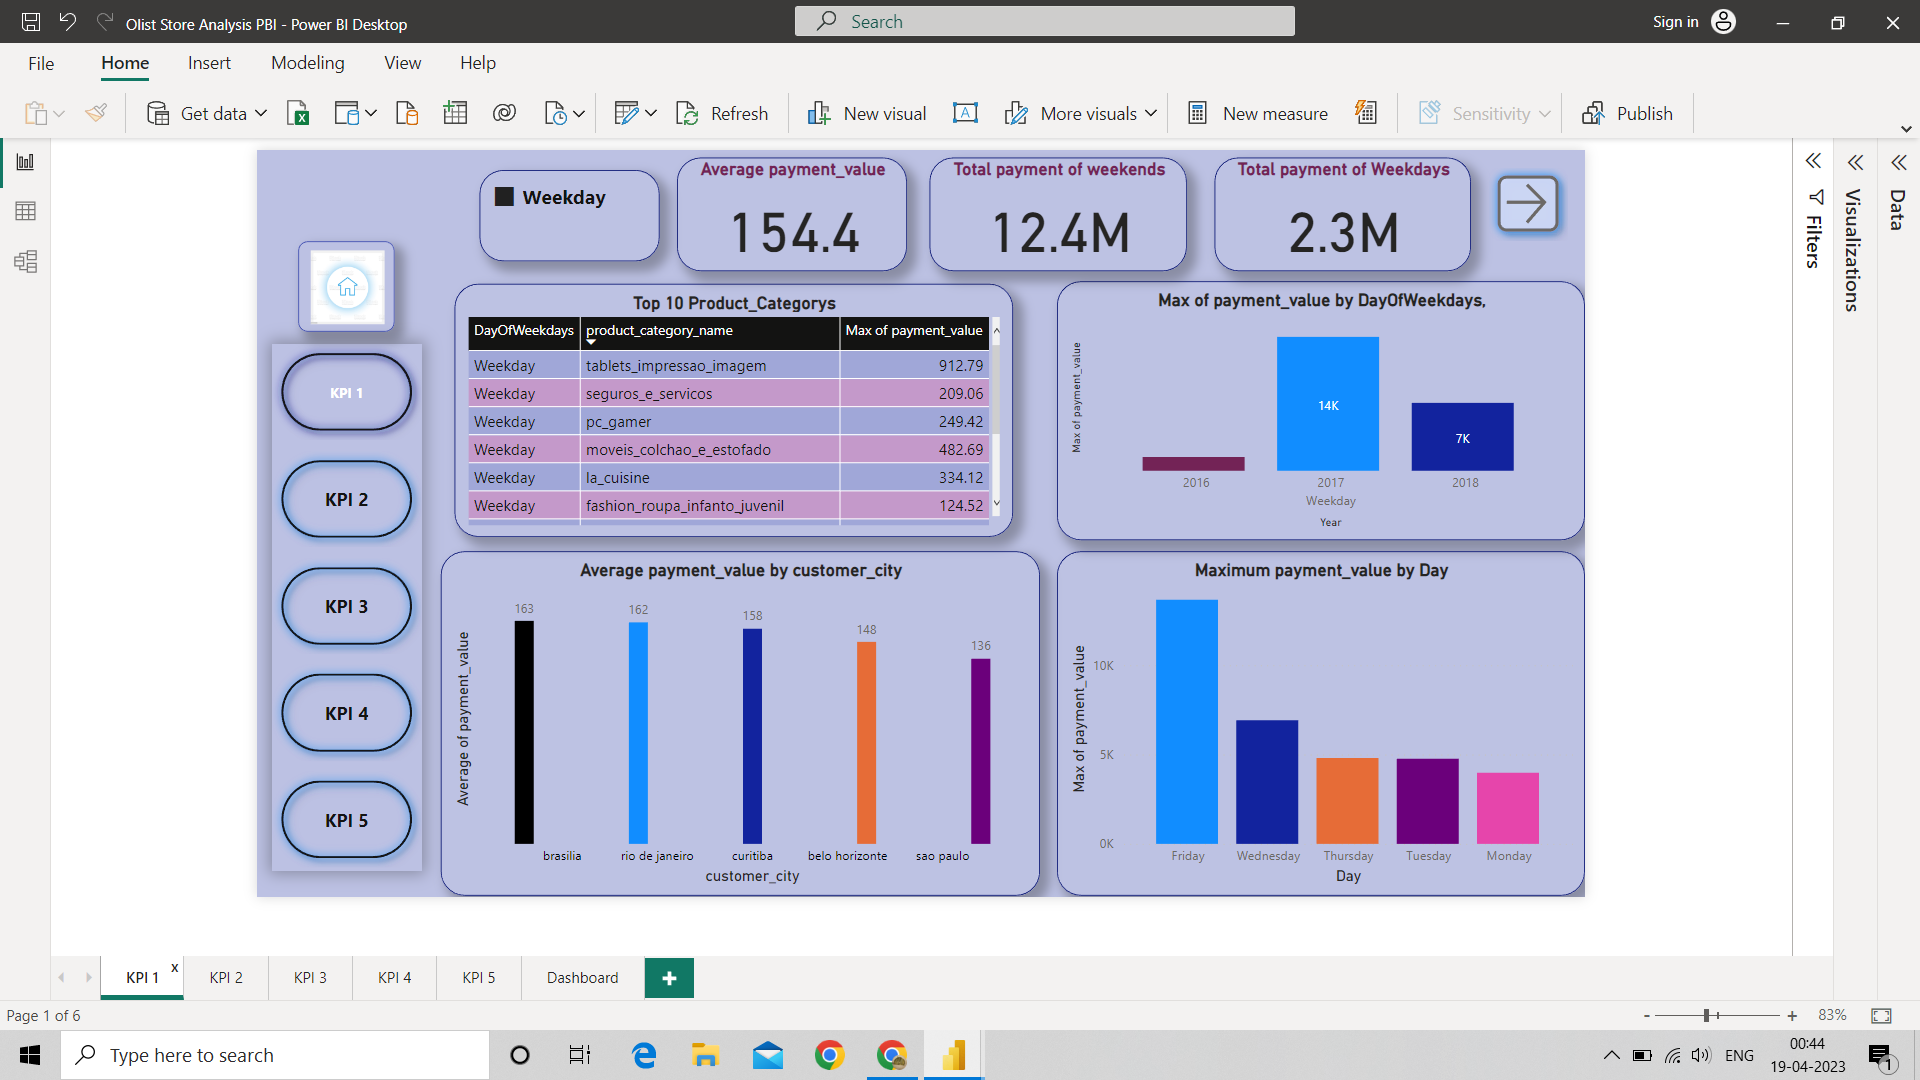

What the dashboard file says about the page in this screenshot:
{"tool":"powerbi","page":{"name":"KPI 1","canvas":[1280,720],"ordinal":0},"visuals":[{"type":"clusteredColumnChart","title":"Average payment_value by customer_city ","fields":{"Category":["olist_customers_dataset.customer_city"],"Y":["olist_order_payments_dataset.payment_value"],"Series":["olist_customers_dataset.customer_city"]},"box":[176.7,387,577.7,332.3],"z":0},{"type":"columnChart","title":"Max of payment_value by DayOfWeekdays, ","fields":{"Category":["olist_orders_dataset.weekday/weekend","olist_orders_dataset.order_purchase_timestamp.Variation.Date Hierarchy.Year"],"Y":["olist_order_payments_dataset.payment_value"],"Series":["olist_orders_dataset.order_purchase_timestamp.Variation.Date Hierarchy.Year"]},"box":[771.3,126.2,509,249.6],"z":1000},{"type":"columnChart","title":"Maximum payment_value by Day","fields":{"Category":["olist_orders_dataset.Day"],"Y":["olist_order_payments_dataset.payment_value"],"Series":["olist_orders_dataset.Day"]},"box":[771.3,387,509,332.3],"z":2000},{"type":"tableEx","title":"Top 10 Product_Categorys","fields":{"Values":["olist_orders_dataset.weekday/weekend","olist_products_dataset.product_category_name","olist_order_payments_dataset.payment_value"]},"box":[190.7,129,538.5,244],"z":3000},{"type":"card","title":"Total payment of Weekdays","fields":{"Values":["olist_orders_dataset.Total Payment Value for Weekdays"]},"box":[922.7,7,246.8,109.4],"z":4000},{"type":"card","title":"Total payment of weekends","fields":{"Values":["olist_orders_dataset.Total Payment Value for Weekends"]},"box":[647.9,7,248.2,109.4],"z":5000},{"type":"card","title":"Average  payment_value ","fields":{"Values":["olist_order_payments_dataset.payment_value"]},"box":[405.3,7,221.6,109.4],"z":6000},{"type":"actionButton","box":[1186.4,15.4,76.9,72.3],"z":7000},{"type":"image","box":[39.3,88.3,92.6,86.9],"z":8000},{"type":"pageNavigator","box":[14,186.5,144.4,507.6],"z":9000},{"type":"slicer","fields":{"Values":["olist_orders_dataset.DayOfWeekdays"]},"box":[214.5,19.6,173.9,88.3],"z":10000}]}

Visuals, with their boxes on the page's 1280x720 design canvas (x1, y1, x2, y2). These are canvas units, not pixel positions in the 1920x1080 screenshot, which may show the page scaled, cropped or inside an application window:
"Average payment_value by customer_city " clusteredColumnChart: bbox(177, 387, 754, 719)
"Max of payment_value by DayOfWeekdays, " columnChart: bbox(771, 126, 1280, 376)
"Maximum payment_value by Day" columnChart: bbox(771, 387, 1280, 719)
"Top 10 Product_Categorys" tableEx: bbox(191, 129, 729, 373)
"Total payment of Weekdays" card: bbox(923, 7, 1170, 116)
"Total payment of weekends" card: bbox(648, 7, 896, 116)
"Average  payment_value " card: bbox(405, 7, 627, 116)
actionButton: bbox(1186, 15, 1263, 88)
image: bbox(39, 88, 132, 175)
pageNavigator: bbox(14, 186, 158, 694)
slicer - olist_orders_dataset.DayOfWeekdays: bbox(214, 20, 388, 108)
